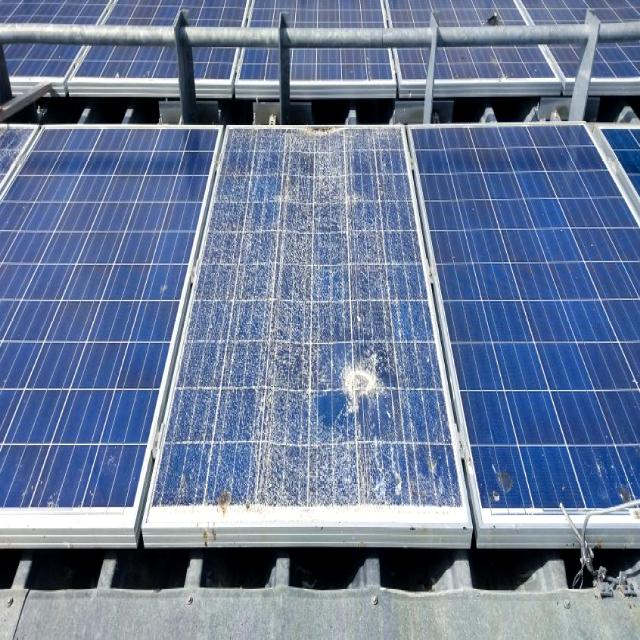hotspot: (334, 338, 404, 440)
